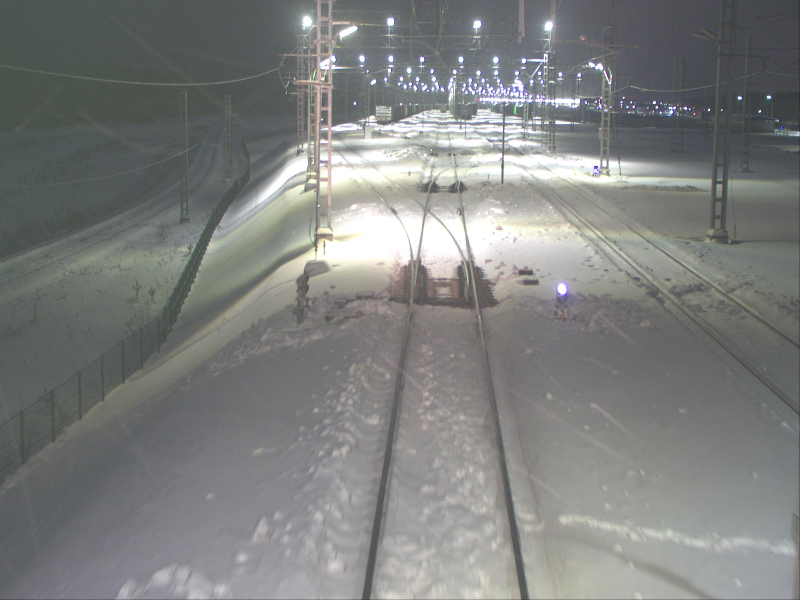right: (412, 199, 476, 292), (428, 163, 462, 193)
